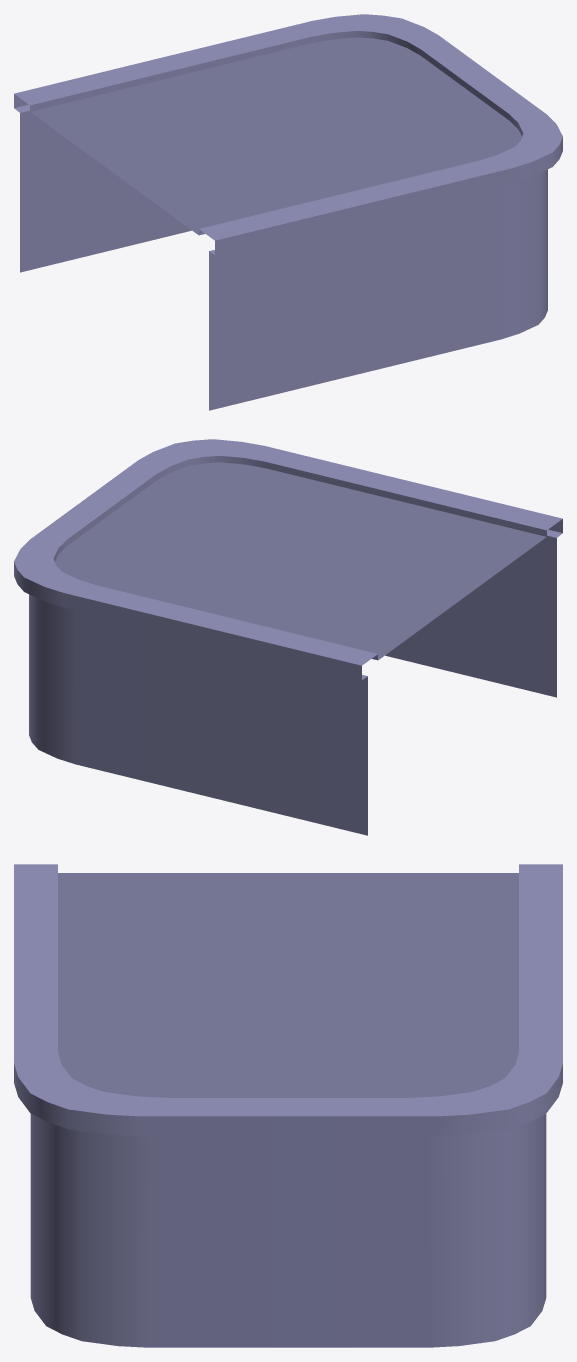
File: Wall_End.fbx
3 views of the same model, one above another, from view 1: azimuth 30°, elevation 25°; view 2: azimuth 150°, elevation 25°; view 3: azimuth 270°, elevation 25° (orthographic). The views are drawn at different scales.
Visible parts, largest first — view 1: Wall_End; view 2: Wall_End; view 3: Wall_End.
Part boxes in pixels (<box>): Wall_End: <box>14,14,562,410</box>; Wall_End: <box>14,439,562,835</box>; Wall_End: <box>14,864,562,1347</box>.
Size of the model in its own units: 231 by 102 by 213.
